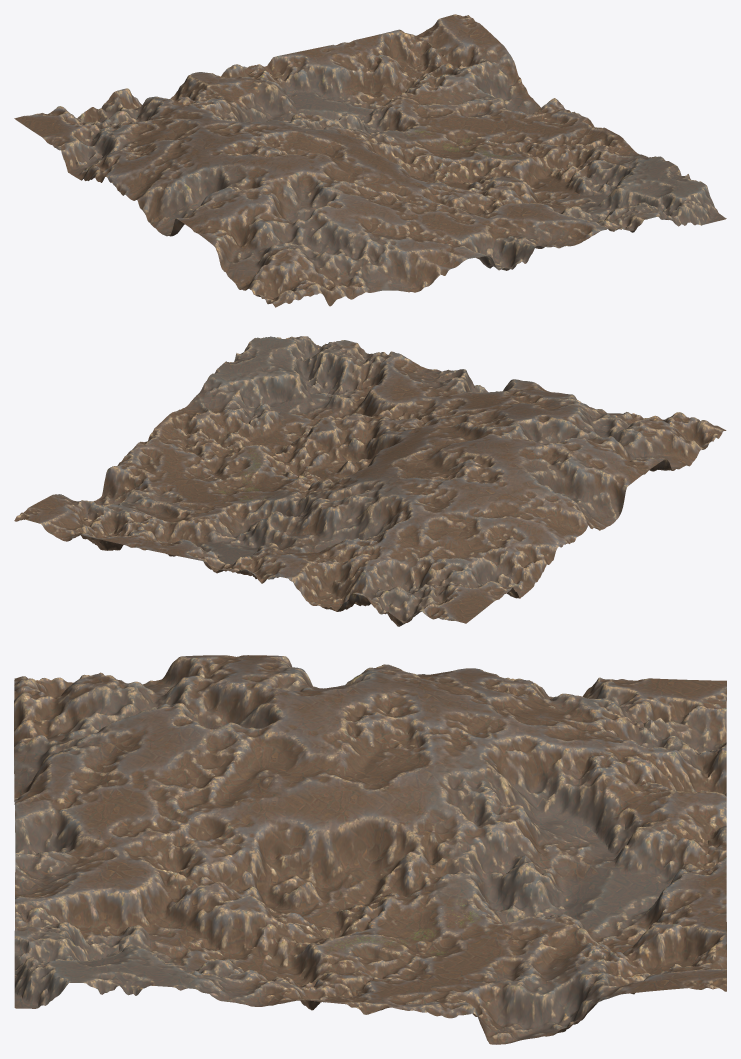
The model's file is desert_rocks.glb.
3 views of the same model, one above another, from view 1: azimuth 30°, elevation 25°; view 2: azimuth 150°, elevation 25°; view 3: azimuth 270°, elevation 25° (orthographic). The views are drawn at different scales.
Visible parts, largest first — view 1: Plane; view 2: Plane; view 3: Plane.
Part boxes in pixels (x1,y1,x2,y2): Plane: (14, 14, 726, 307); Plane: (14, 336, 726, 626); Plane: (14, 655, 726, 1044).
Bounding box in the file's own units: 8.72 × 1.57 × 8.73.
Materials: 1 (1 with a texture image).
